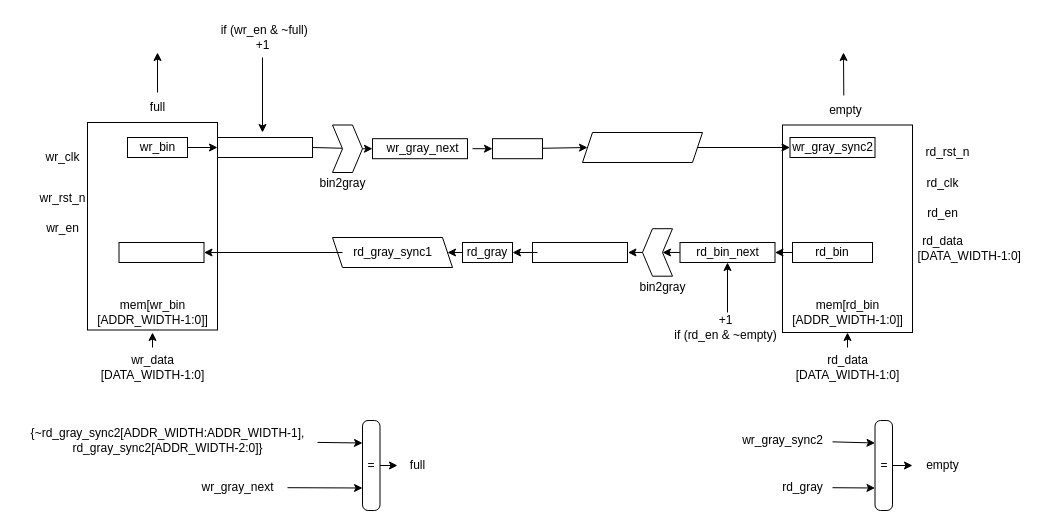
The diagram is 1049 pixels wide and 528 high, and some of its shapes have lost their labels. The shapes that lost their labels are listed below. From the top down, each one's box as (x1, y1, x2, y2) in pixels, then its label:
(216, 136, 312, 158): wr_bin_next
(492, 138, 542, 159): wr_gray
(582, 132, 702, 162): wr_gray_sync1
(118, 242, 204, 262): rd_gray_sync2
(532, 242, 628, 262): rd_gray_next
